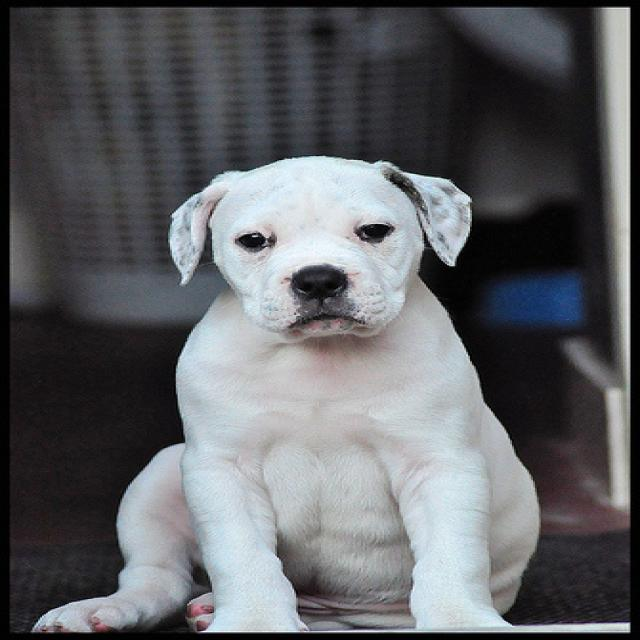dog-american_bulldog: (2, 145, 546, 637)
